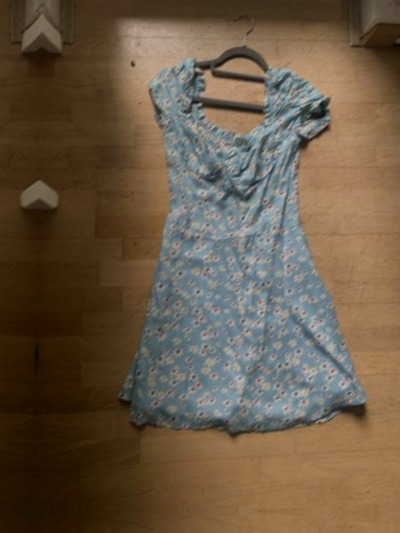Dress: (61, 23, 400, 462), (0, 16, 16, 456)
